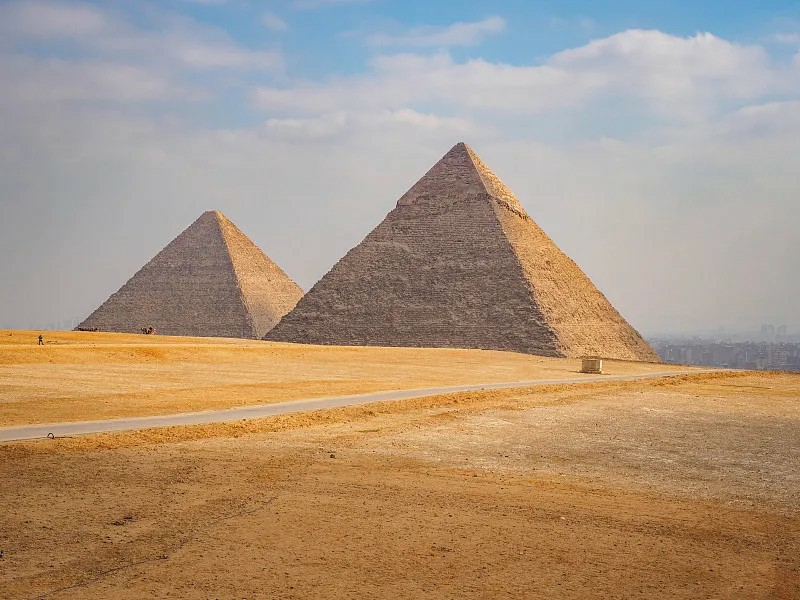Pyramid: (261, 140, 666, 363), (71, 212, 307, 340)
